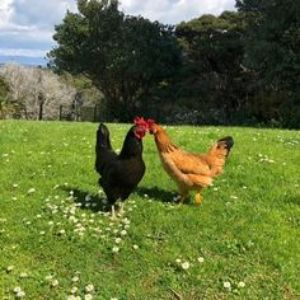hen: (143, 113, 237, 211), (80, 113, 154, 225)
